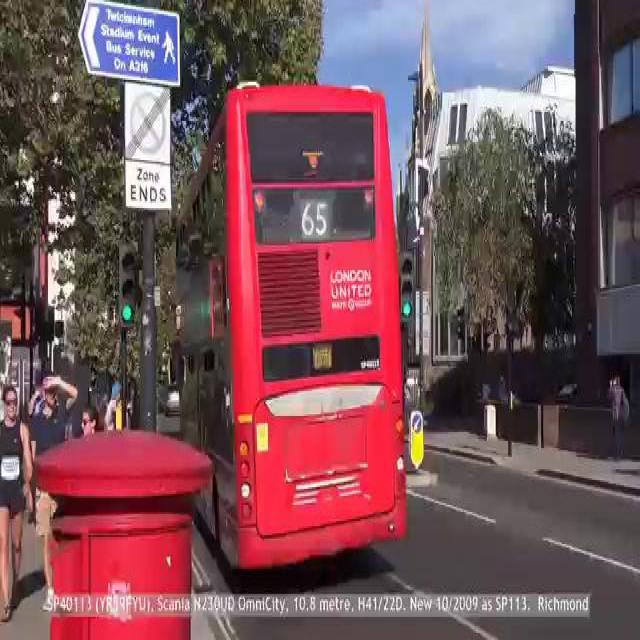motorcycle: (172, 60, 414, 585)
